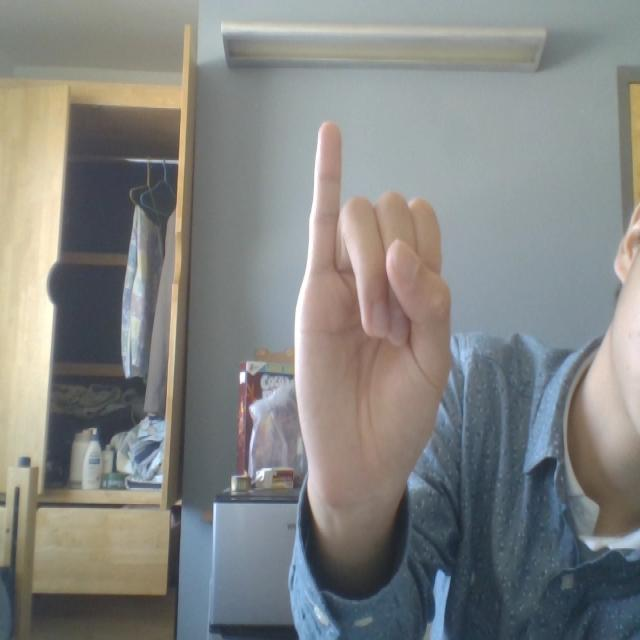I: (266, 111, 464, 568)
